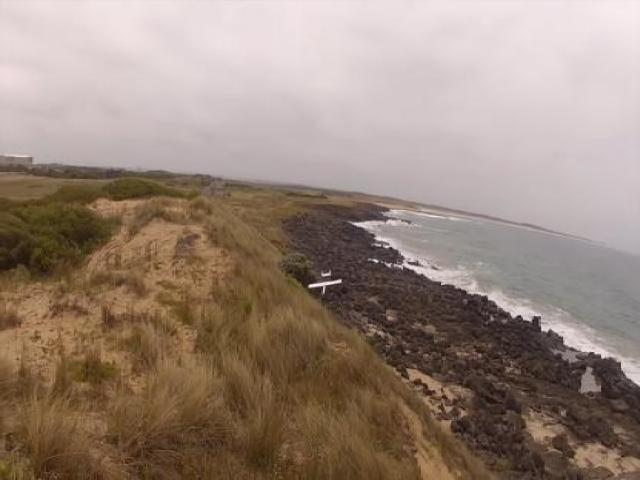uav: (302, 264, 348, 301)
